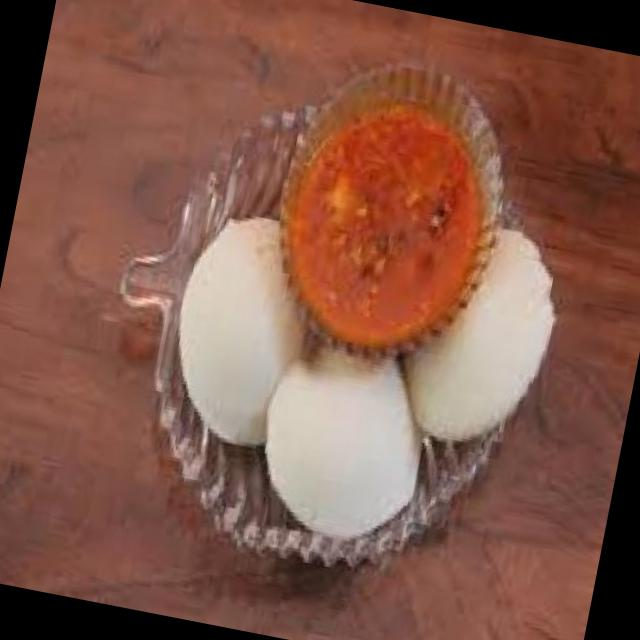idli: (160, 206, 334, 452), (396, 218, 569, 454), (247, 336, 438, 549)
